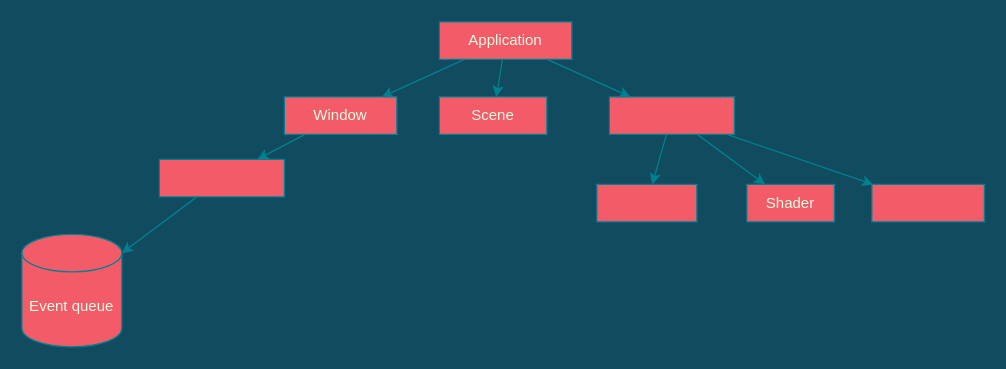
Image size: 1006x369. Some labels were removed from this diagram. Here are the shapes that lost their labels. From the top down, the centre of each, then its label:
the point at 671,115: Renderer
the point at 221,177: Event
